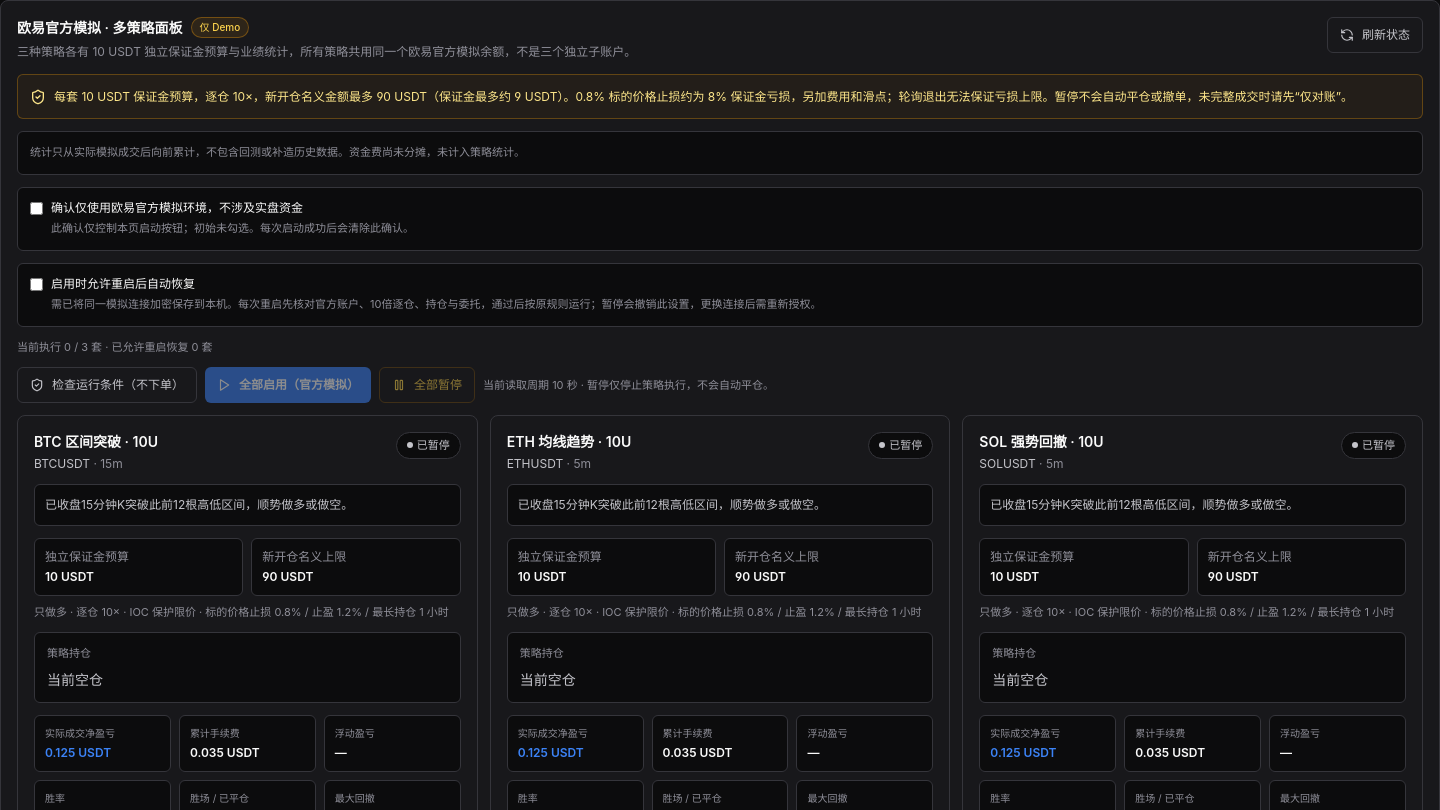
Test: shows a fixed safe message when an enable request fails
Click the checkbox named "确认仅使用欧易官方模拟": (36, 208) [30, 202, 43, 215]
(page scrolled)
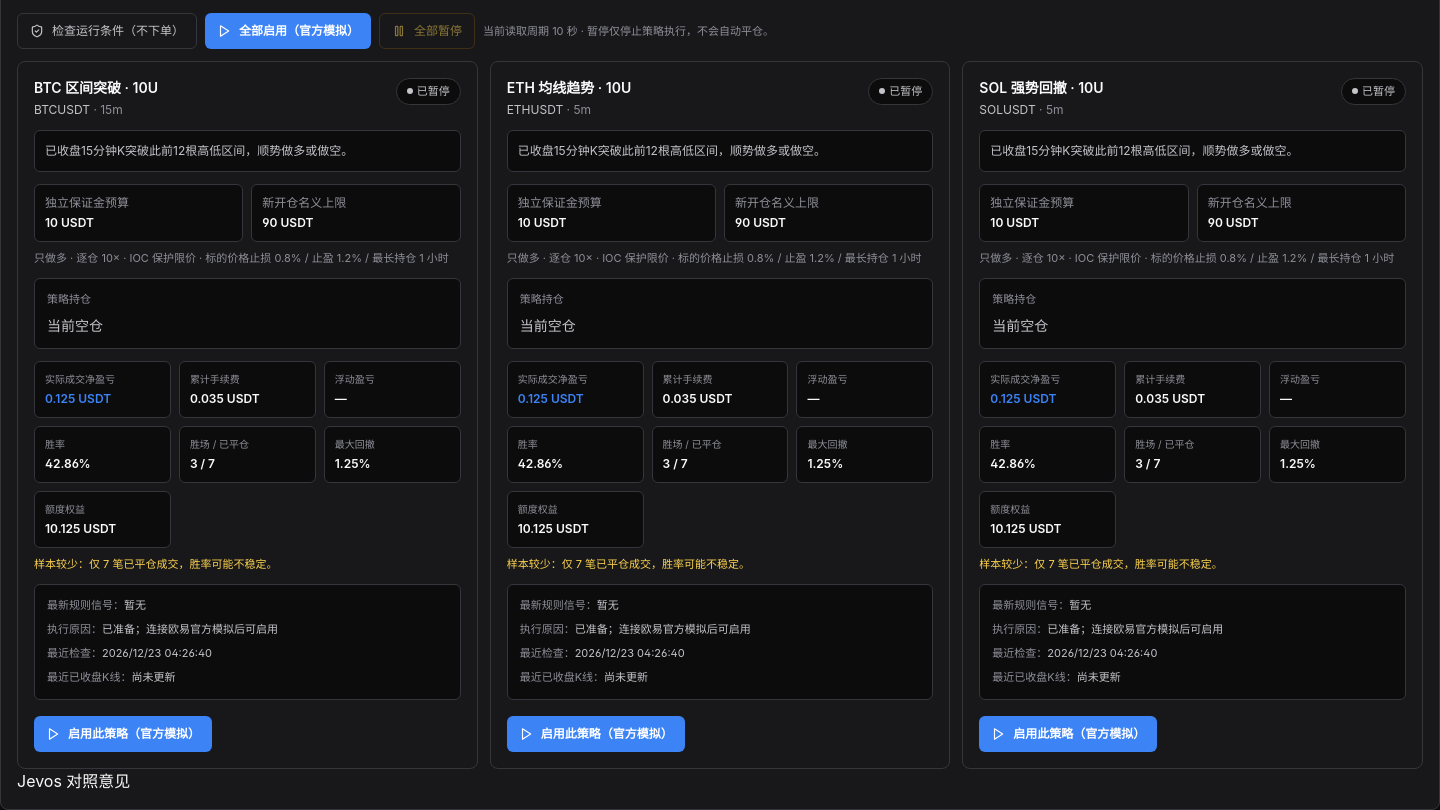
Click the 1st button "启用此策略（官方模拟）": (123, 734) [34, 716, 212, 752]
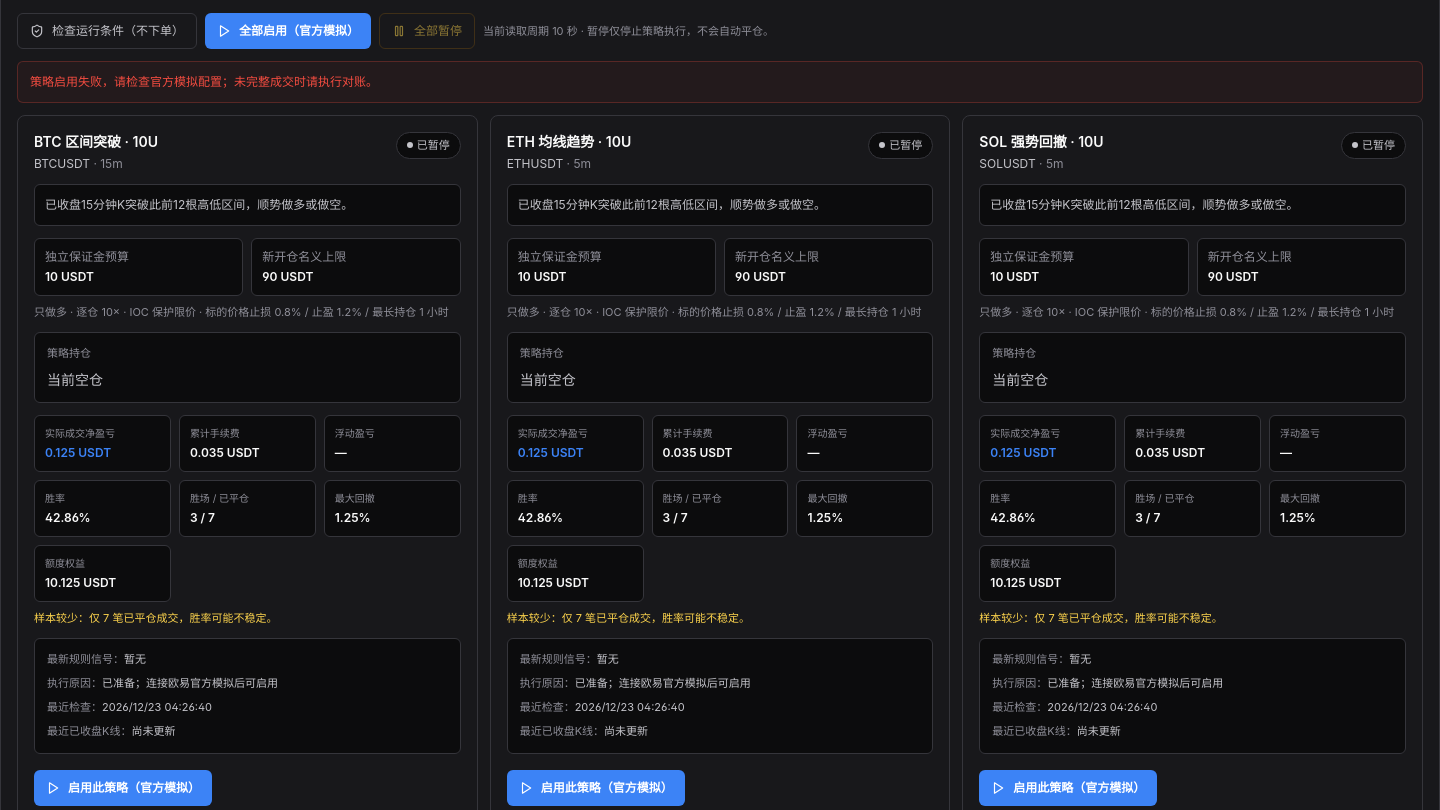
Result: the text "策略启用失败，请检查官方模拟配置" is shown at [30, 74, 378, 89]
